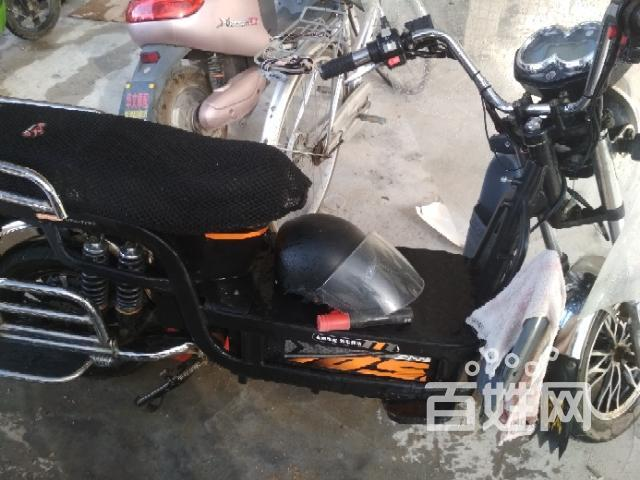电动车: (1, 15, 639, 459)
